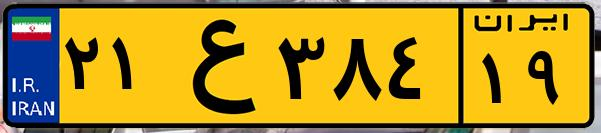1: (475, 38, 525, 113), (110, 28, 158, 98)
2: (57, 26, 110, 100)
3: (270, 28, 330, 110)
4: (385, 28, 445, 110)
8: (330, 28, 385, 110)
9: (525, 38, 570, 115)
ع: (158, 12, 270, 120)
